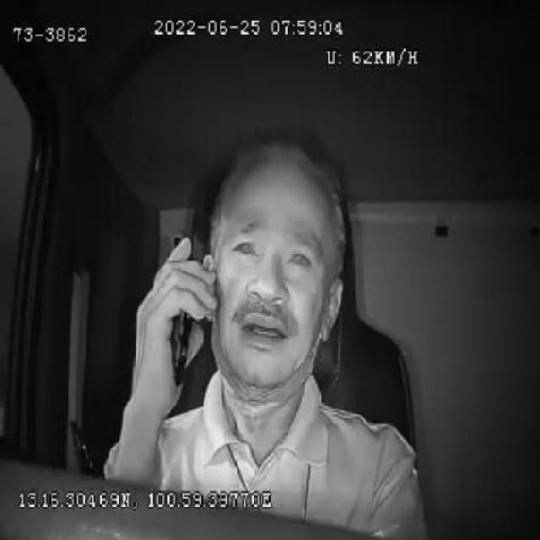phone: (163, 230, 196, 389)
